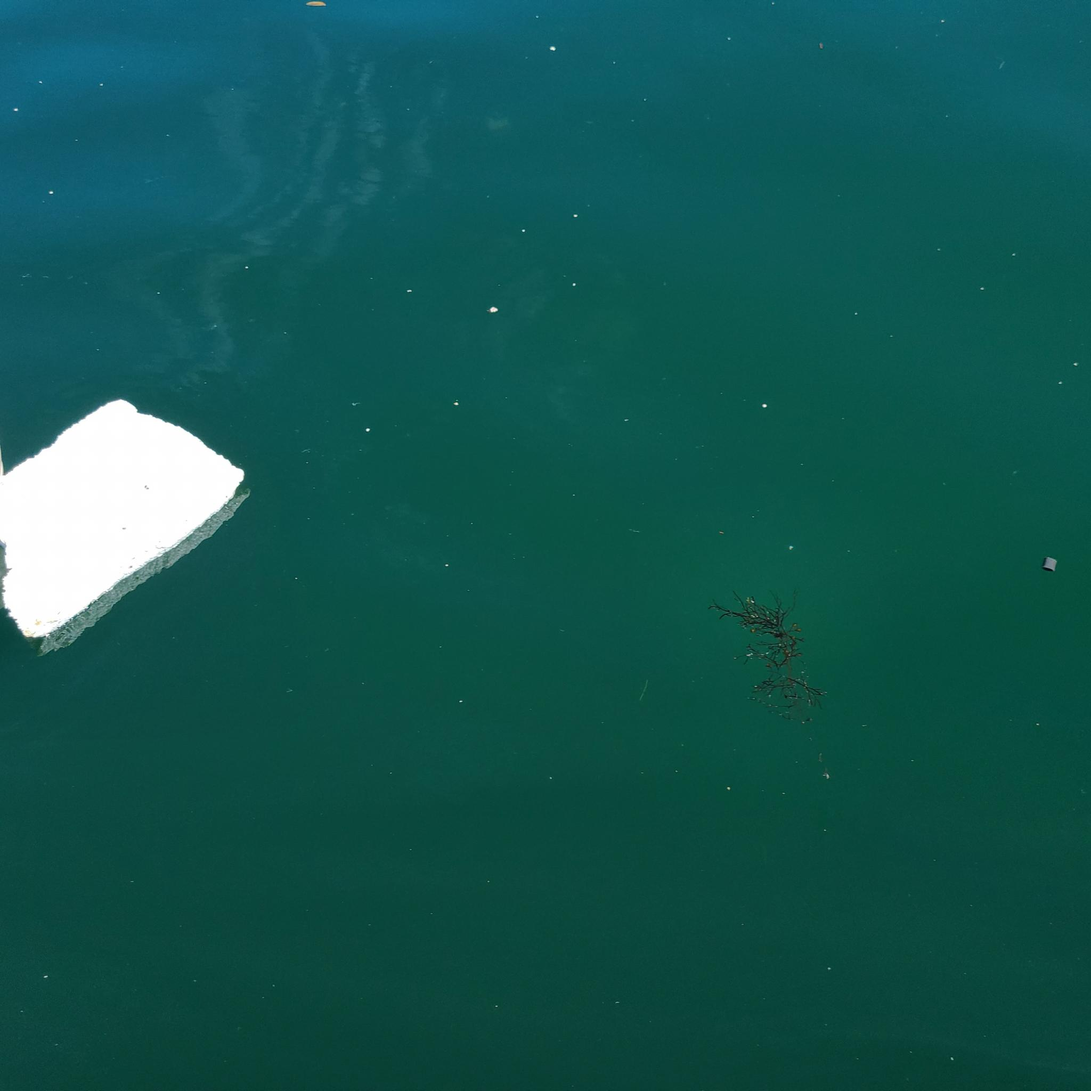sampah_terapung: (1, 400, 247, 638)
